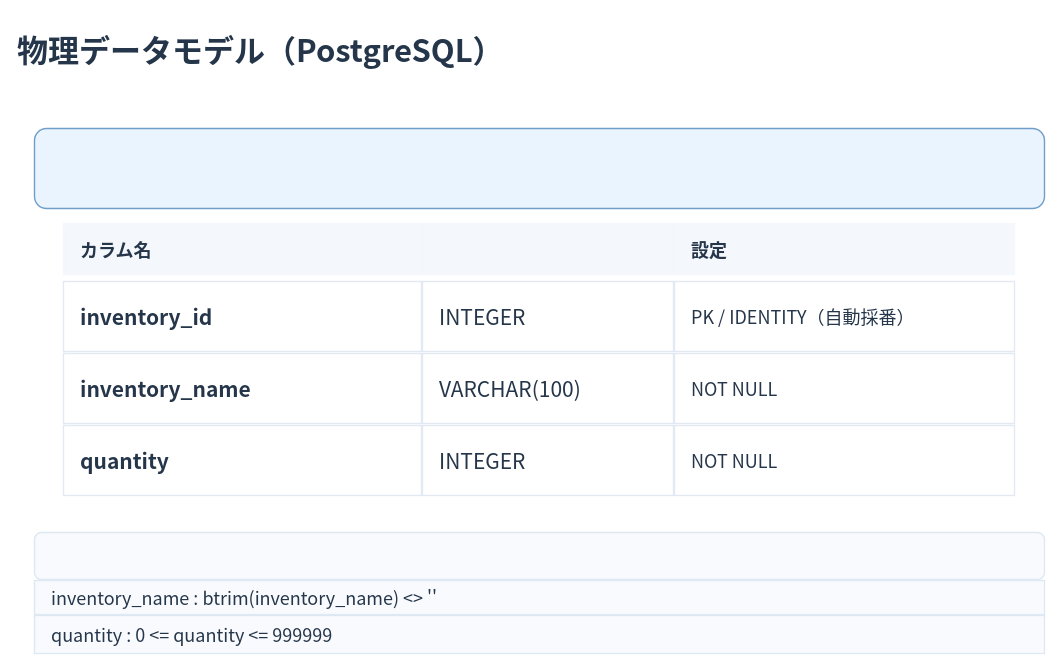
Some shapes in this 1062 by 671 pixel diagram are drawn without their labels. Here are the shapes that lost their labels. From the top down, the centre of each, then its label:
the point at 539,168: inventory
the point at 547,248: データ型
the point at 539,555: 入力値の制約（CHECK）
